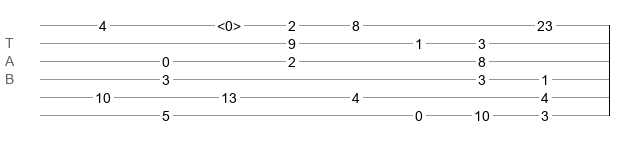0: (162, 54, 170, 64), (415, 108, 423, 118)
1: (415, 36, 423, 46), (541, 72, 549, 82)
10: (95, 90, 111, 100), (474, 108, 490, 118)
13: (221, 90, 237, 100)
2: (288, 18, 296, 28), (288, 54, 296, 64)
23: (537, 18, 553, 28)
3: (162, 72, 170, 82), (478, 72, 486, 82), (478, 36, 486, 46), (541, 108, 549, 118)
4: (99, 18, 107, 28), (352, 90, 360, 100), (541, 90, 549, 100)
5: (162, 108, 170, 118)
8: (352, 18, 360, 28), (478, 54, 486, 64)
9: (288, 36, 296, 46)
harmonic: (217, 18, 241, 28)
